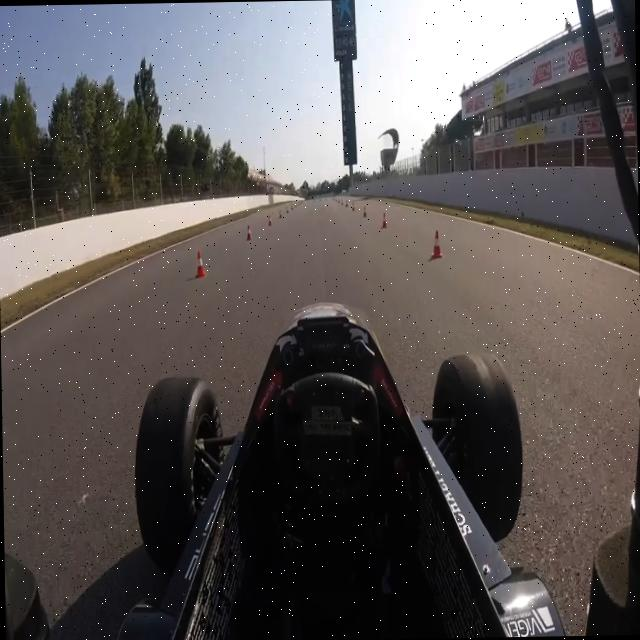orange_cone: (428, 230, 444, 260), (194, 249, 206, 278), (245, 223, 252, 241), (382, 212, 388, 228), (362, 204, 366, 217), (268, 215, 272, 226)
